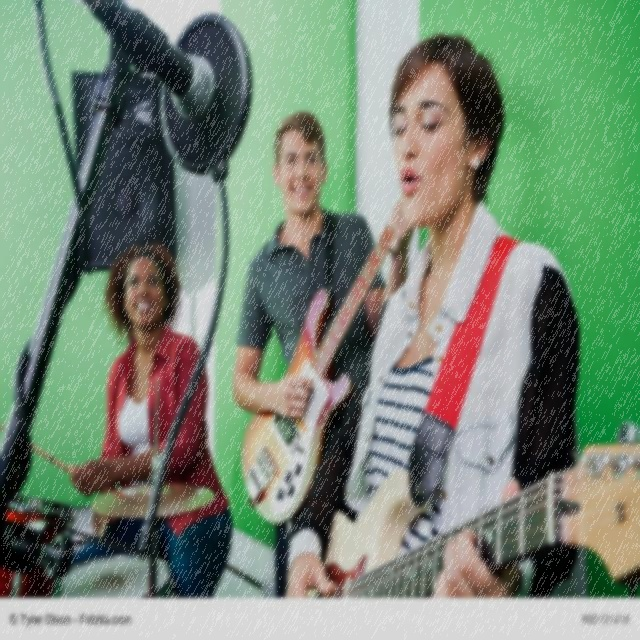pessoa: (284, 32, 582, 598), (36, 236, 235, 640), (229, 108, 417, 466)
